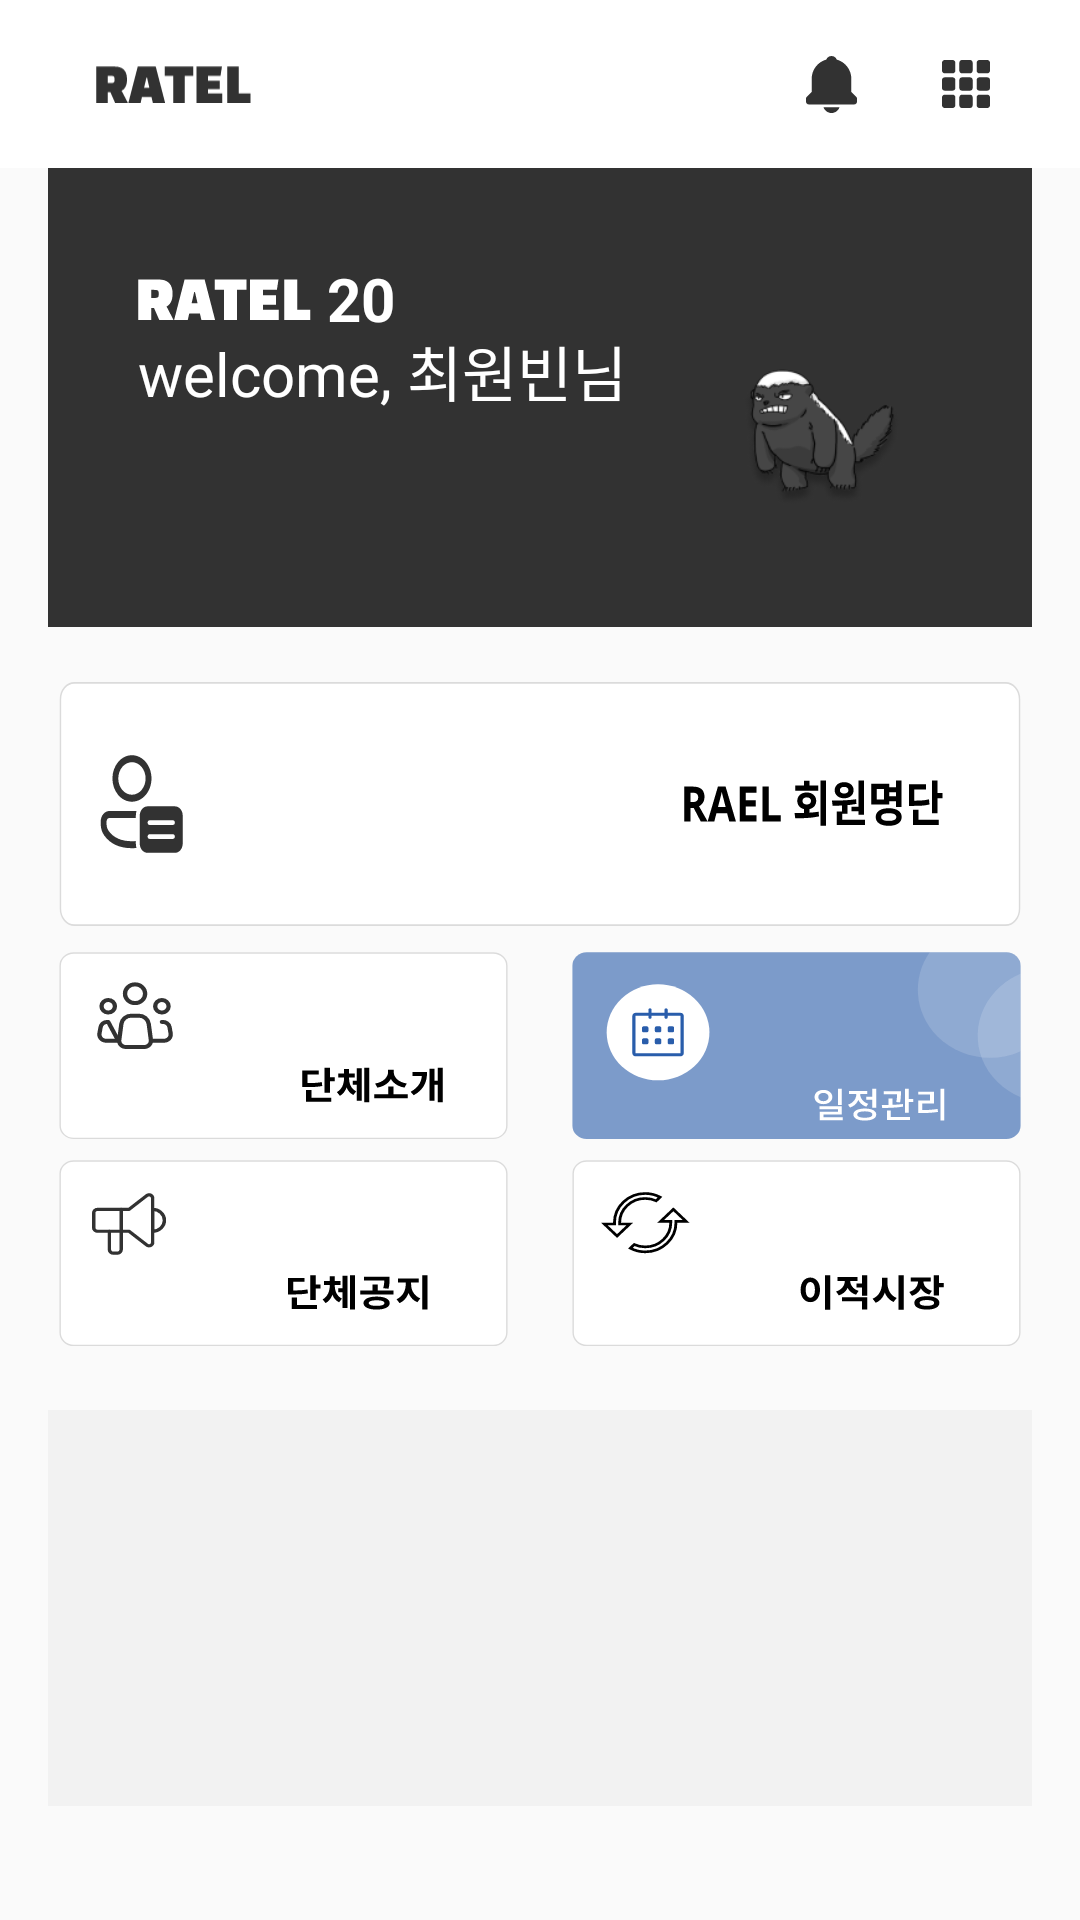

Where icons sit on this 1080*1920 app screen, as [x1,y1,x2,y2]:
go alram: [806,56,857,113]
go extra: [942,60,990,108]
